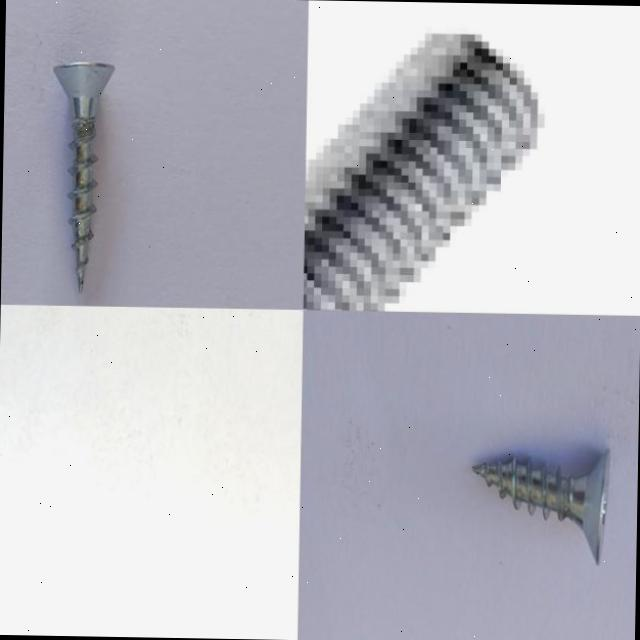Screw: (303, 33, 537, 311), (471, 451, 610, 566), (53, 63, 114, 293)
